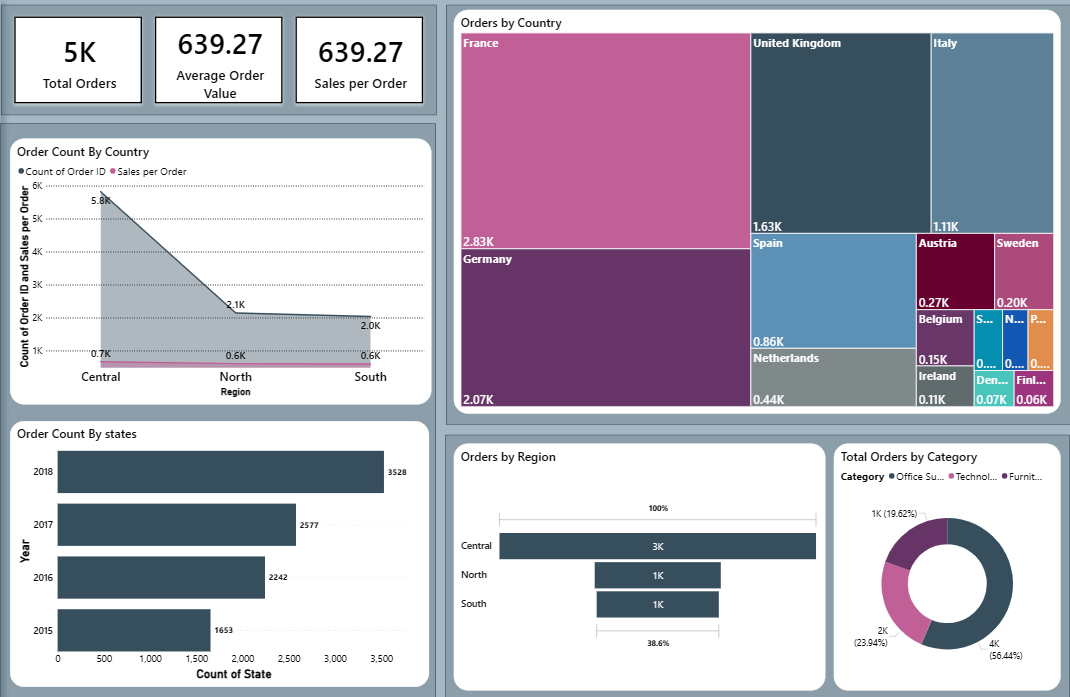

The dashboard page shown, as its layout file describes it:
{"tool":"powerbi","page":{"name":"Order and Customer analysis","canvas":[2600,1500],"ordinal":1},"visuals":[{"type":"shape","box":[2.6,7.7,325.6,1474.4],"z":0},{"type":"image","box":[35.6,47.5,253.8,135.9],"z":0,"group":"g1"},{"type":"shape","box":[22.5,52.5,282.5,187.5],"z":1000},{"type":"image","box":[10,155.2,307.7,79.5],"z":1000,"group":"g1"},{"type":"shape","box":[1264.1,923.1,1315.4,564.1],"z":2000},{"type":"shape","box":[330,17.5,917.5,232.5],"z":3000},{"type":"shape","box":[1265,17.5,1315,885],"z":4000},{"type":"shape","box":[327.5,267.5,917.5,1215],"z":5000},{"type":"treemap","title":"Orders by Country","fields":{"Values":["CountNonNull(Table1.Order ID)"],"Group":["Table1.Country"]},"box":[1282.5,30,1277.5,850],"z":6000},{"type":"areaChart","title":"Order Count By Country","fields":{"Category":["Table1.Region"],"Y":["CountNonNull(Table1.Order ID)","Table1.Sales per Order"]},"box":[347.5,300,887.5,560],"z":7000},{"type":"cardVisual","fields":{"Data":["Table1.Total Orders","Table1.Average Order Value","Table1.Sales per Order"]},"box":[340,25,895,217.5],"z":8000},{"type":"donutChart","title":"Total Orders by Category","fields":{"Y":["Table1.Total Orders"],"Category":["Table1.Category"]},"box":[2082.5,942.5,477.5,520],"z":9000},{"type":"group","id":"g1","title":"Group 1","box":[10,47.5,307.5,187.5],"z":10000},{"type":"funnel","title":"Orders by Region","fields":{"Y":["Table1.Total Orders"],"Category":["Table1.Region"]},"box":[1282.5,942.5,782.5,520],"z":11000},{"type":"clusteredBarChart","title":"Order Count By states","fields":{"Category":["Table1.Order Date.Variation.Date Hierarchy.Year"],"Y":["CountNonNull(Table1.State)"]},"box":[347.5,895,882.5,560],"z":12000},{"type":"slicer","fields":{"Values":["Table1.Ship Date.Variation.Date Hierarchy.Year"]},"box":[38.5,300,248.7,115.4],"z":13000},{"type":"slicer","fields":{"Values":["Table1.Ship Date.Variation.Date Hierarchy.Month"]},"box":[38.5,476.9,253.8,128.2],"z":14000},{"type":"slicer","fields":{"Values":["Table1.Region"]},"box":[35.9,841,253.8,128.2],"z":15000},{"type":"slicer","fields":{"Values":["Table1.Country"]},"box":[38.5,1020.5,253.8,130.8],"z":16000},{"type":"slicer","fields":{"Values":["Table1.State"]},"box":[38.5,1205.1,253.8,130.8],"z":17000},{"type":"slicer","fields":{"Values":["Table1.Ship Date"]},"box":[38.5,661.5,253.8,128.2],"z":18000},{"type":"actionButton","box":[35.9,1356.4,107.7,107.7],"z":19000}]}

Visuals, with their boxes on the page's 2600x1500 design canvas (x1, y1, x2, y2). These are canvas units, not pixel positions in the 1070x697 screenshot, which may show the page scaled, cropped or inside an application window:
shape: <bbox>3, 8, 328, 1482</bbox>
image: <bbox>36, 48, 289, 183</bbox>
shape: <bbox>22, 52, 305, 240</bbox>
image: <bbox>10, 155, 318, 235</bbox>
shape: <bbox>1264, 923, 2580, 1487</bbox>
shape: <bbox>330, 18, 1248, 250</bbox>
shape: <bbox>1265, 18, 2580, 902</bbox>
shape: <bbox>328, 268, 1245, 1482</bbox>
"Orders by Country" treemap: <bbox>1282, 30, 2560, 880</bbox>
"Order Count By Country" areaChart: <bbox>348, 300, 1235, 860</bbox>
cardVisual - Table1.Total Orders x Table1.Average Order Value: <bbox>340, 25, 1235, 242</bbox>
"Total Orders by Category" donutChart: <bbox>2082, 942, 2560, 1462</bbox>
"Group 1" group: <bbox>10, 48, 318, 235</bbox>
"Orders by Region" funnel: <bbox>1282, 942, 2065, 1462</bbox>
"Order Count By states" clusteredBarChart: <bbox>348, 895, 1230, 1455</bbox>
slicer - Table1.Ship Date.Variation.Date Hierarchy.Year: <bbox>38, 300, 287, 415</bbox>
slicer - Table1.Ship Date.Variation.Date Hierarchy.Month: <bbox>38, 477, 292, 605</bbox>
slicer - Table1.Region: <bbox>36, 841, 290, 969</bbox>
slicer - Table1.Country: <bbox>38, 1020, 292, 1151</bbox>
slicer - Table1.State: <bbox>38, 1205, 292, 1336</bbox>
slicer - Table1.Ship Date: <bbox>38, 662, 292, 790</bbox>
actionButton: <bbox>36, 1356, 144, 1464</bbox>
